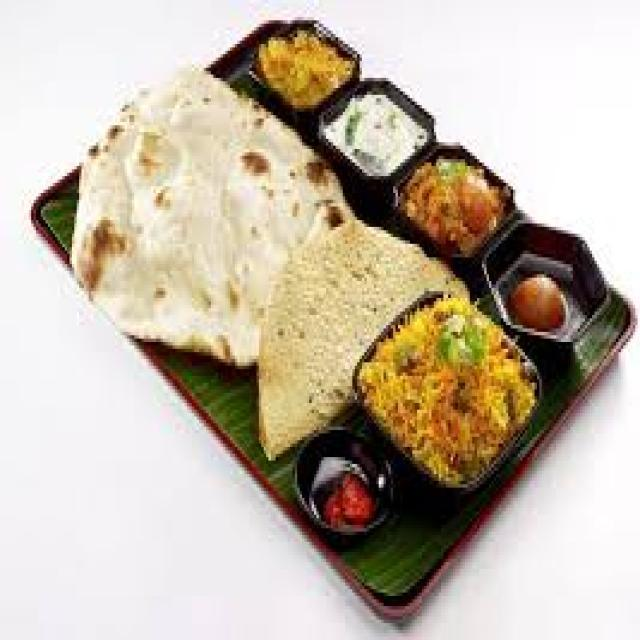papad: (237, 171, 426, 412)
pickle: (296, 434, 394, 539)
raita: (323, 76, 429, 190)
rice: (365, 272, 535, 497), (249, 19, 359, 117)
roti: (62, 68, 278, 341)
sweet: (486, 219, 604, 347)
veg-fry: (393, 131, 511, 270)
